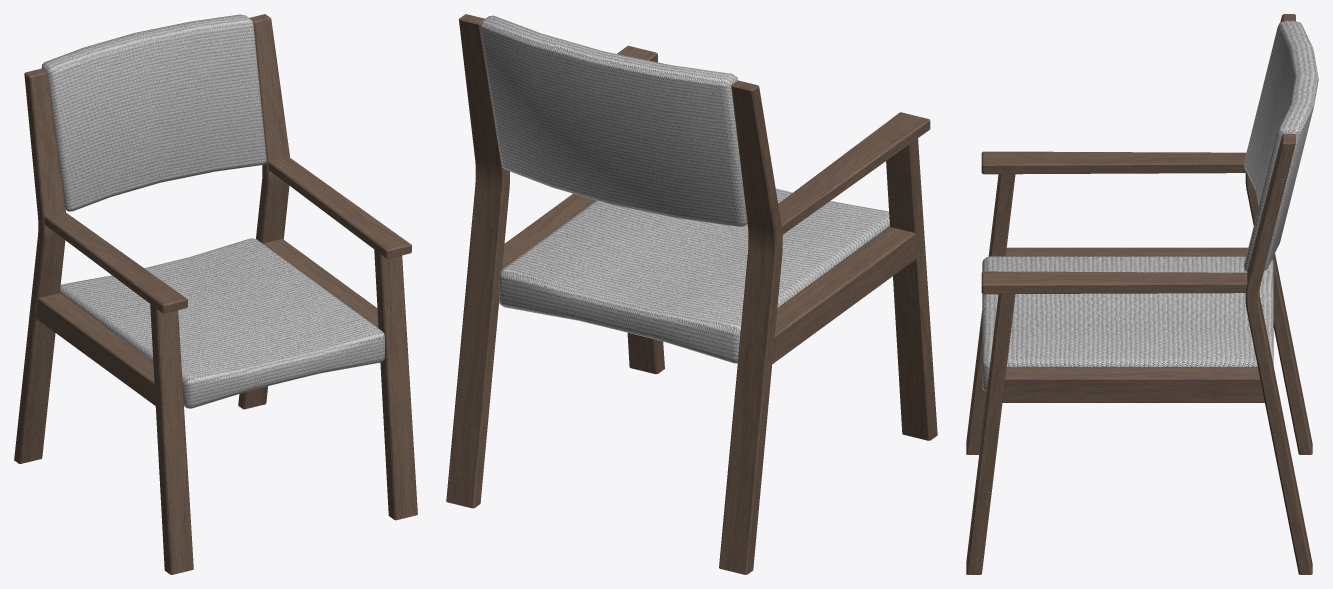
Rendered from D_Bench_016.fbx.
3 renders of one model, left to right at view 1: azimuth 30°, elevation 25°; view 2: azimuth 150°, elevation 25°; view 3: azimuth 270°, elevation 25°, orthographic. The views are drawn at different scales.
Visible parts, largest first — view 1: D_Bench_016; view 2: D_Bench_016; view 3: D_Bench_016.
Part boxes in pixels (x1,y1,x2,y2): D_Bench_016: (14,14,417,574); D_Bench_016: (446,14,937,574); D_Bench_016: (966,14,1318,574).
Size of the model in its own units: 0.719 by 1.09 by 0.8015.
